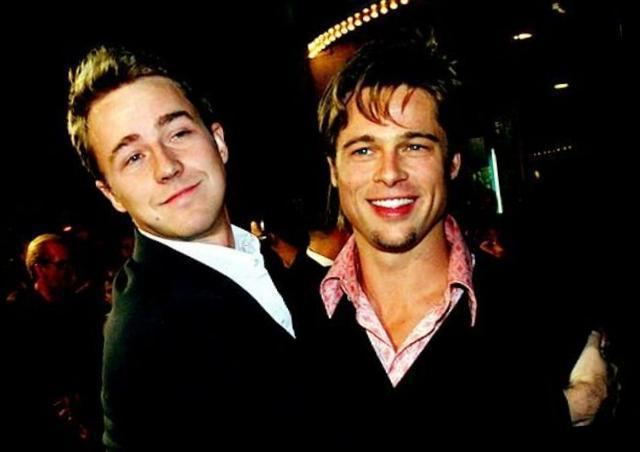Drunk: (90, 92, 222, 229), (345, 89, 440, 246)
